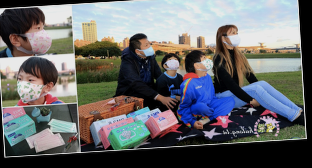with_mask: (15, 72, 42, 104), (26, 24, 52, 55), (199, 54, 214, 73), (226, 30, 240, 47), (141, 39, 154, 57), (165, 57, 180, 71)
